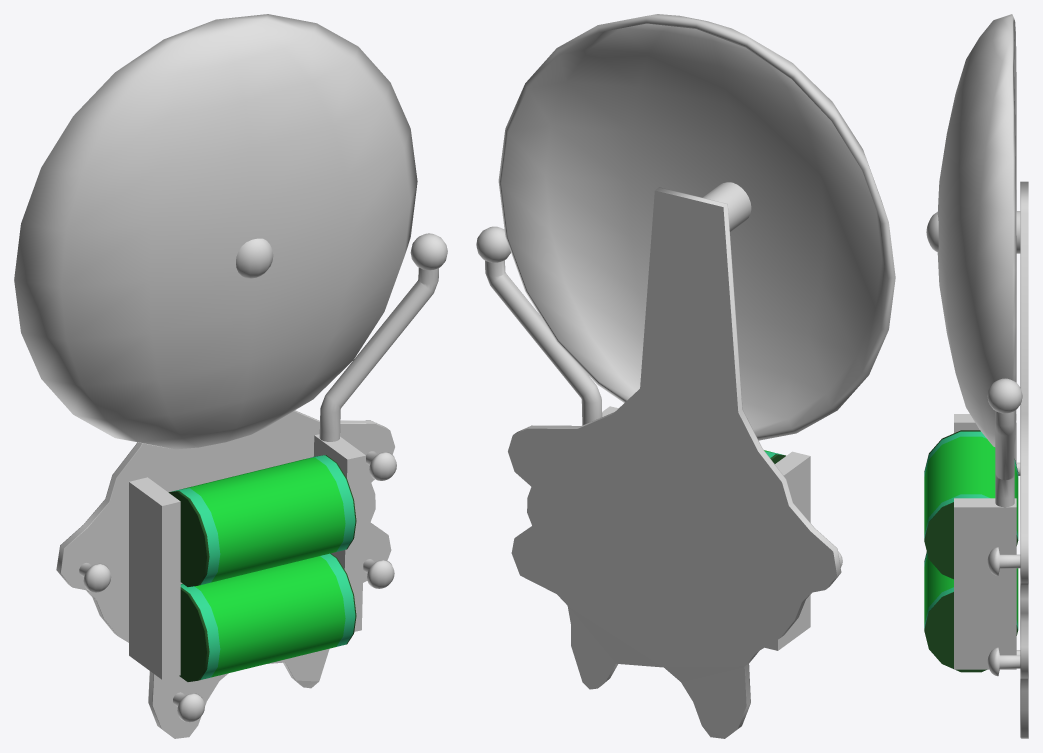
File: school_bell.fbx
3 renders of one model, left to right at view 1: azimuth 30°, elevation 25°; view 2: azimuth 150°, elevation 25°; view 3: azimuth 270°, elevation 25°, orthographic. The views are drawn at different scales.
Parts seen in each view (by area): view 1: bell, capacitors, mounting_plate, mount_left, bell_arm, bell_mount_screw, bolt_3, bolt_1, bolt_2, bolt_4; view 2: bell, mounting_plate, bell_arm, mount_left, bell_mount_screw; view 3: bell, bell_arm, capacitors, mounting_plate, bolt_2, bell_mount_screw, bolt_4, mount_left.
Part boxes in pixels (box(x1,y1,x2,y2)): bell: box(14, 14, 417, 449); capacitors: box(168, 455, 356, 681); mounting_plate: box(56, 410, 394, 738); mount_left: box(129, 477, 180, 679); bell_arm: box(313, 233, 447, 631); bell_mount_screw: box(236, 238, 273, 278); bolt_3: box(173, 692, 204, 722); bolt_1: box(79, 563, 111, 592); bolt_2: box(366, 451, 396, 480); bolt_4: box(363, 559, 394, 588); bell: box(498, 14, 895, 440); mounting_plate: box(508, 187, 841, 738); bell_arm: box(476, 226, 618, 425); mount_left: box(765, 451, 810, 650); bell_mount_screw: box(702, 182, 751, 231); bell: box(937, 14, 1016, 446); bell_arm: box(954, 378, 1022, 669); capacitors: box(924, 430, 1018, 672); mounting_plate: box(1020, 181, 1028, 738); bolt_2: box(987, 547, 1020, 575); bell_mount_screw: box(926, 211, 1020, 253); bolt_4: box(987, 647, 1020, 676); mount_left: box(954, 414, 1016, 464).
Bounding box in the file's own units: 31.82 × 50.87 × 7.12.
